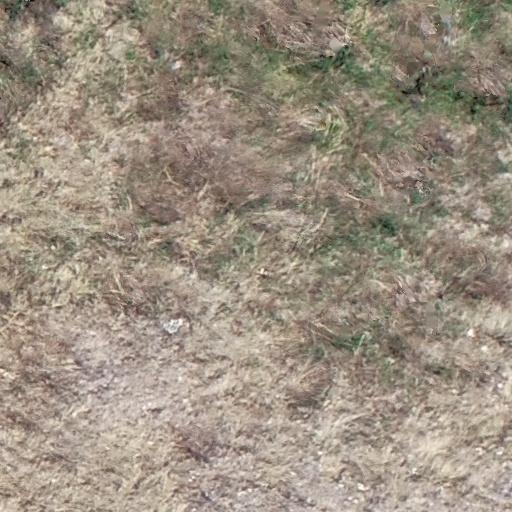stone: (164, 317, 184, 332)
